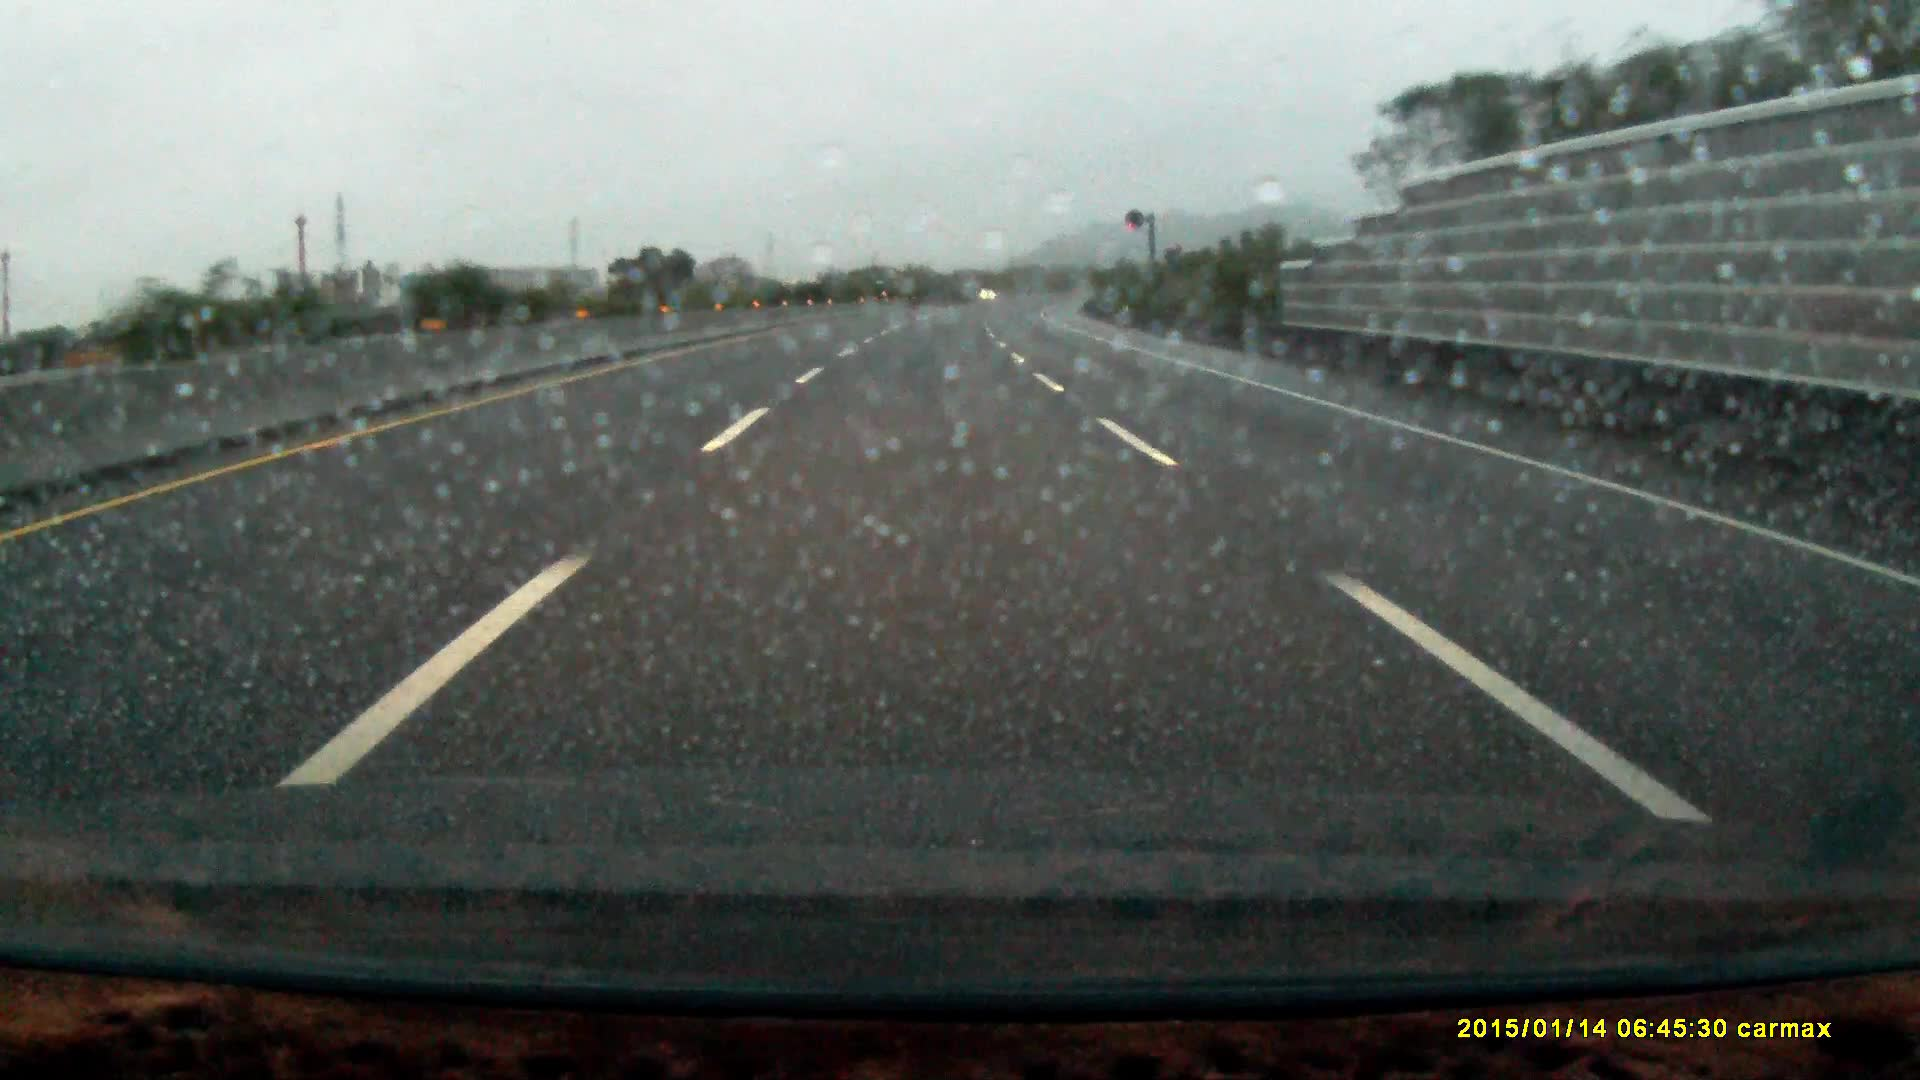vehicle: (872, 270, 906, 298)
